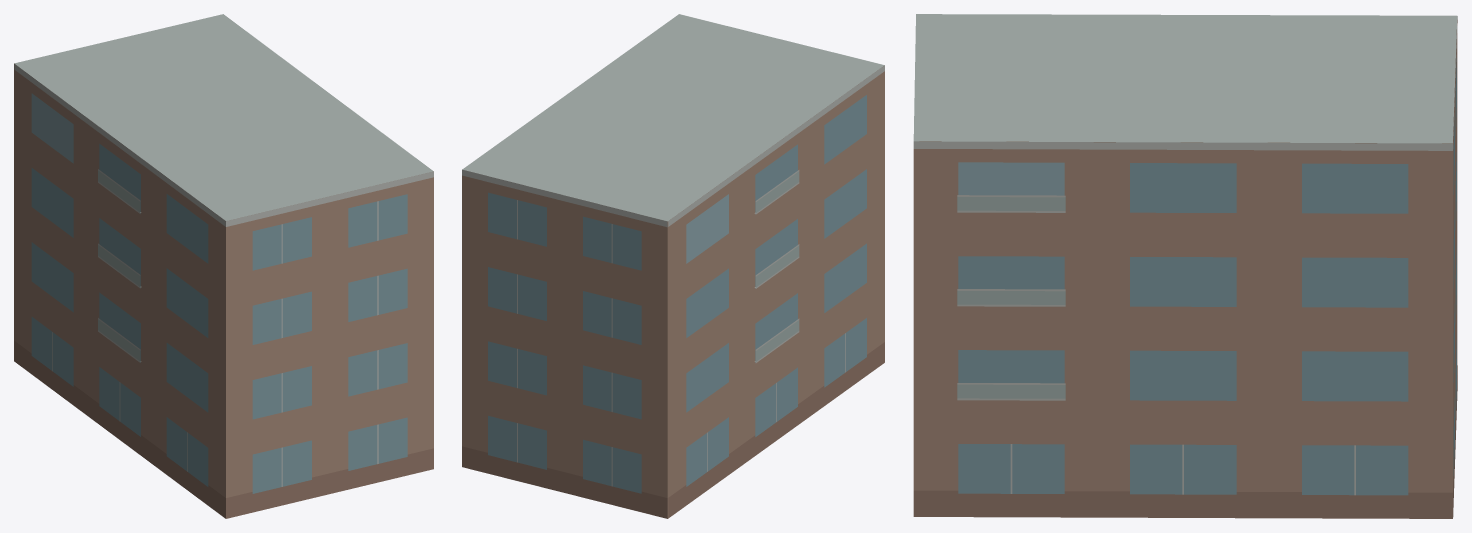
Rendered from survey-upis-32705408.glb.
3 views of the same model, side by side, from view 1: azimuth 30°, elevation 25°; view 2: azimuth 150°, elevation 25°; view 3: azimuth 270°, elevation 25° (orthographic). The views are drawn at different scales.
Parts seen in each view (by area): view 1: survey-upis-32705408.tmp; view 2: survey-upis-32705408.tmp; view 3: survey-upis-32705408.tmp.
Boxes of the visible parts, box(x1,y1,x2,y2) form: survey-upis-32705408.tmp: box(14, 14, 433, 518); survey-upis-32705408.tmp: box(462, 14, 884, 518); survey-upis-32705408.tmp: box(913, 14, 1457, 518).
Bounding box in the file's own units: 9.03 × 12.2 × 16.02.
